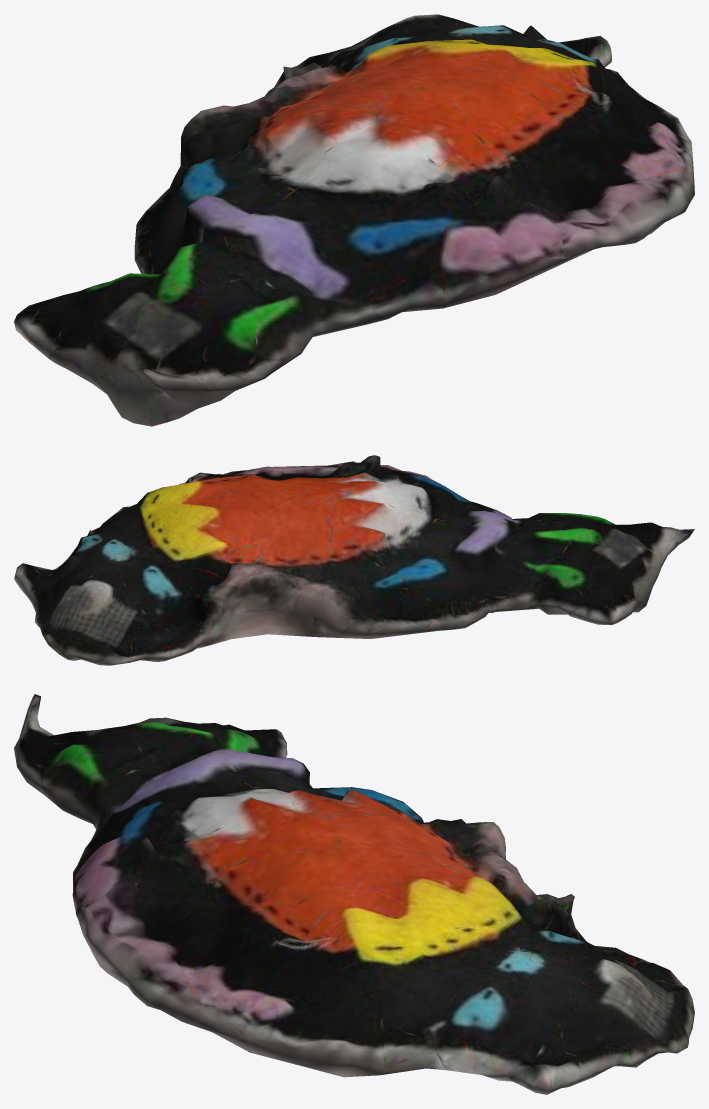
The model's file is hall.glb.
3 renders of one model, top to bottom at view 1: azimuth 30°, elevation 25°; view 2: azimuth 150°, elevation 25°; view 3: azimuth 270°, elevation 25°, orthographic. The views are drawn at different scales.
Size of the model in its own units: 0.9275 by 0.1952 by 0.7757.
1 material, 1 textured.
